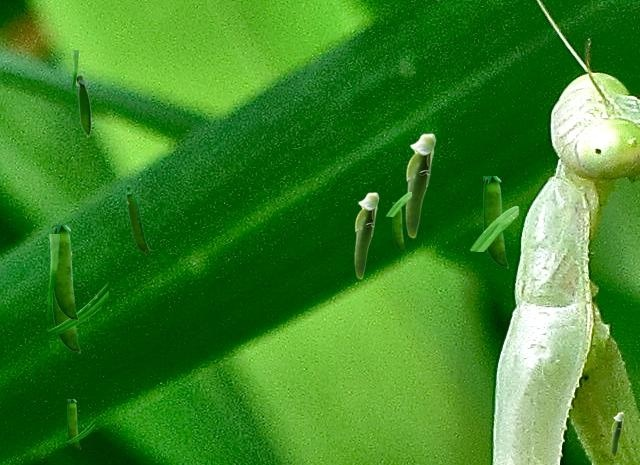pea: (405, 133, 435, 237), (52, 252, 79, 352), (52, 225, 77, 320), (483, 176, 507, 267), (354, 192, 378, 278), (126, 185, 148, 252), (76, 74, 90, 137), (392, 202, 404, 251), (67, 399, 79, 448), (611, 412, 623, 456)
